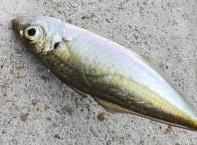fish: (11, 15, 196, 132)
